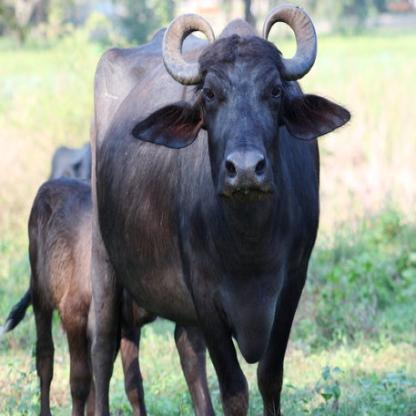buffalo: (96, 36, 318, 416), (20, 196, 108, 414)
